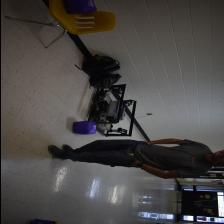cube: (62, 0, 96, 15), (72, 121, 96, 135)
